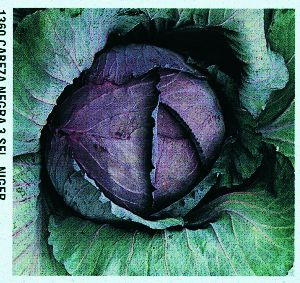cabbage: (42, 38, 230, 232)
